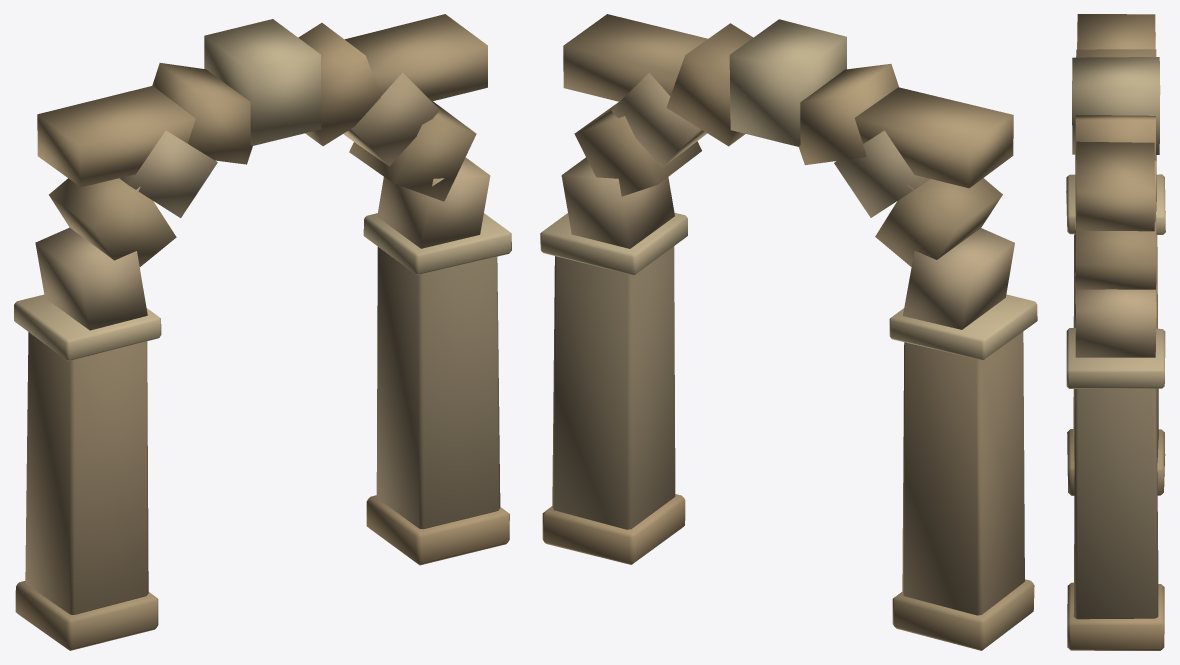
Rendered from ruins_arch.glb.
3 renders of one model, left to right at view 1: azimuth 30°, elevation 25°; view 2: azimuth 150°, elevation 25°; view 3: azimuth 270°, elevation 25°, orthographic. The views are drawn at different scales.
Parts seen in each view (by area): view 1: ruins_arch; view 2: ruins_arch; view 3: ruins_arch.
Boxes of the visible parts, x1=… form: ruins_arch: x1=14, y1=14, x2=511, y2=650; ruins_arch: x1=540, y1=14, x2=1037, y2=650; ruins_arch: x1=1066, y1=14, x2=1165, y2=650.
Size of what is drawn, in the model's own units: 5.1 by 5.84 by 1.09.
